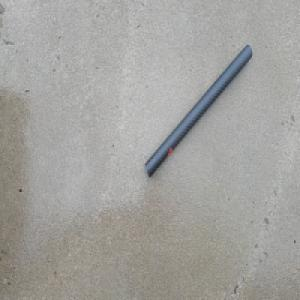LuggagePart: (144, 42, 252, 180)
